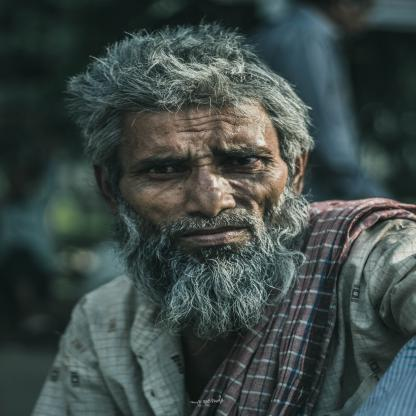Eye: (138, 159, 187, 181), (222, 152, 269, 173)
Mouth: (175, 223, 254, 250)
Nose: (184, 171, 235, 219)
